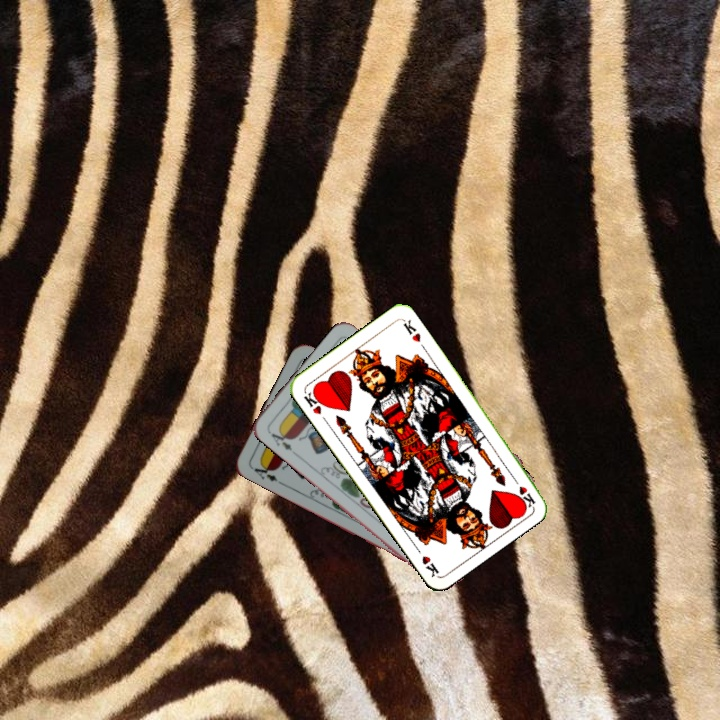EA: (250, 459, 284, 487), (264, 425, 295, 454)
HK: (507, 471, 538, 509), (299, 386, 327, 417)
